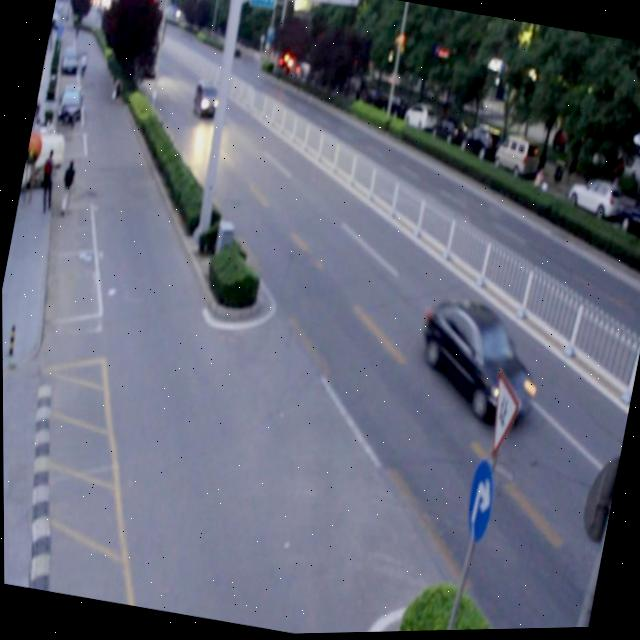car: (407, 289, 545, 434), (191, 79, 223, 121)
